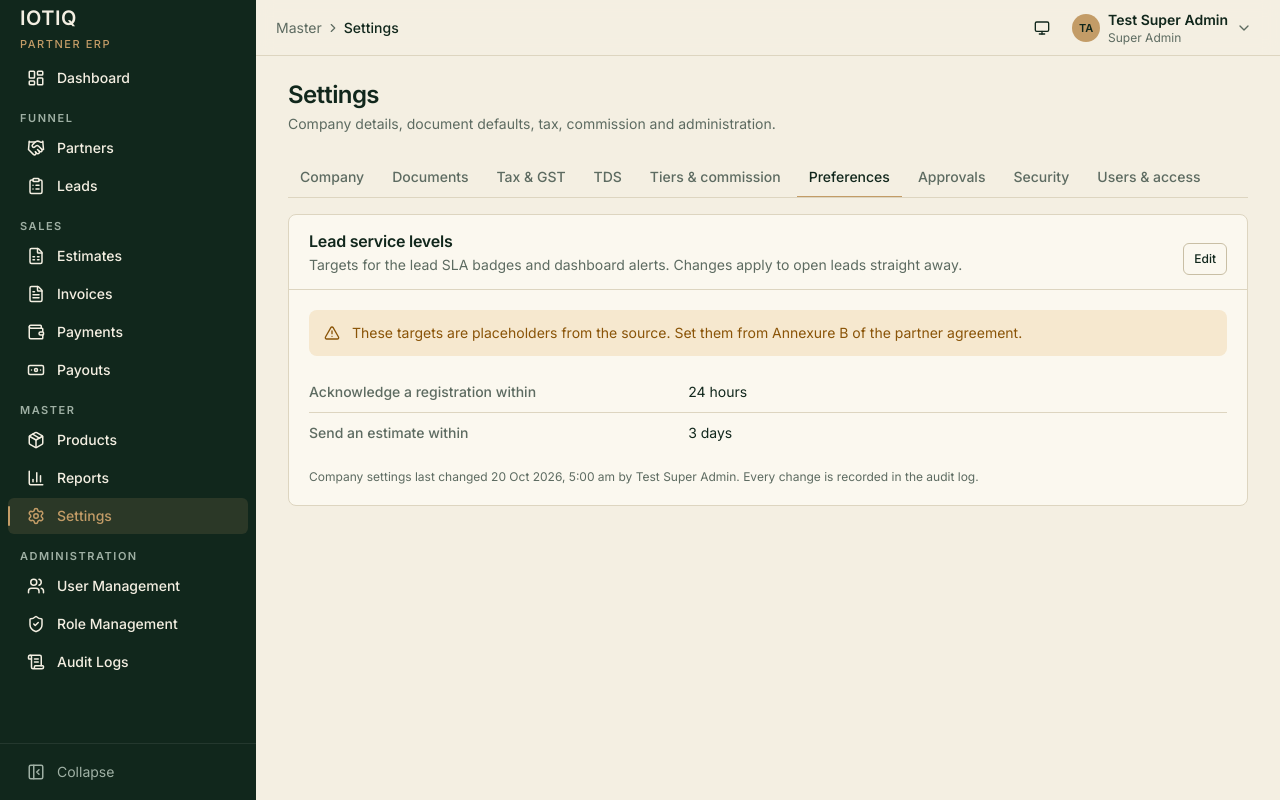
it: settings and administration › explains a concurrent change instead of overwriting it
Click the button with aria-label "Edit lead service levels".
click(1205, 259)  # box 1183,243 -> 1227,275
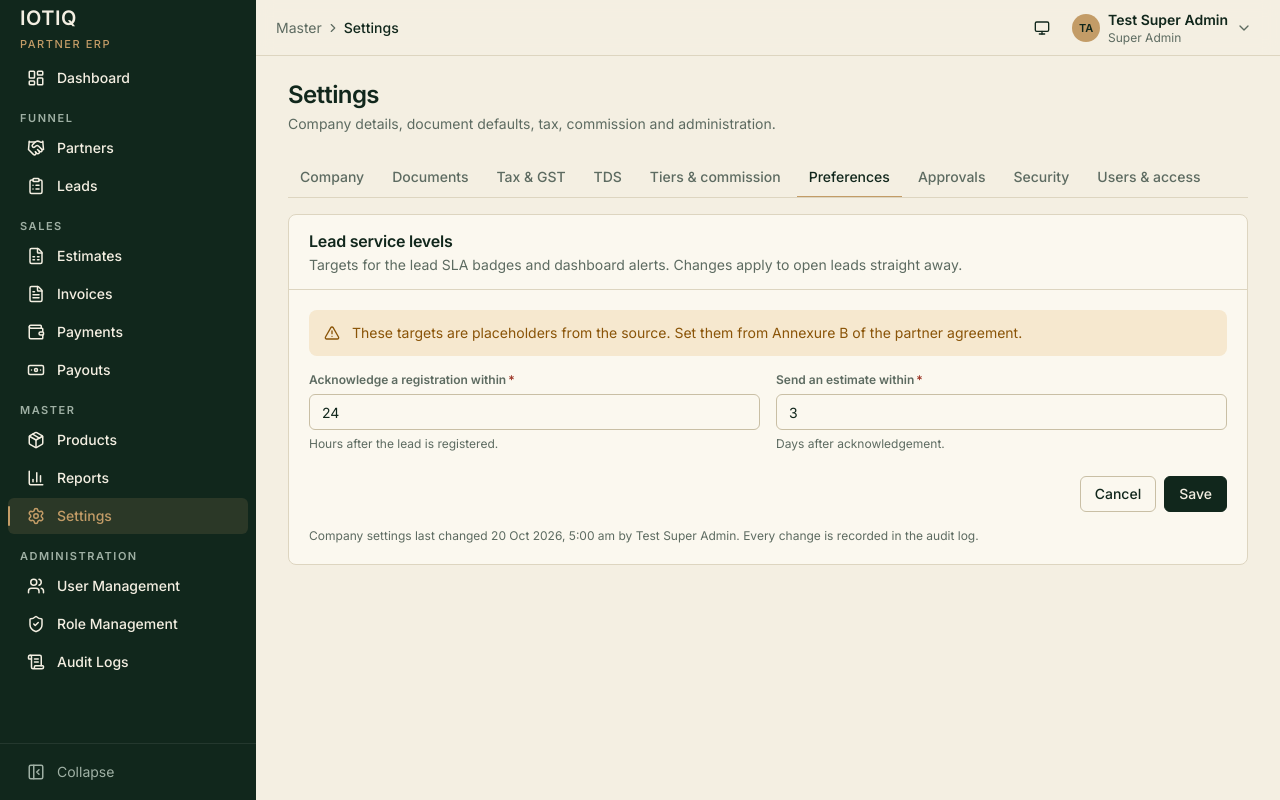
Click the button "Save".
click(1196, 494)  # box 1164,476 -> 1227,512
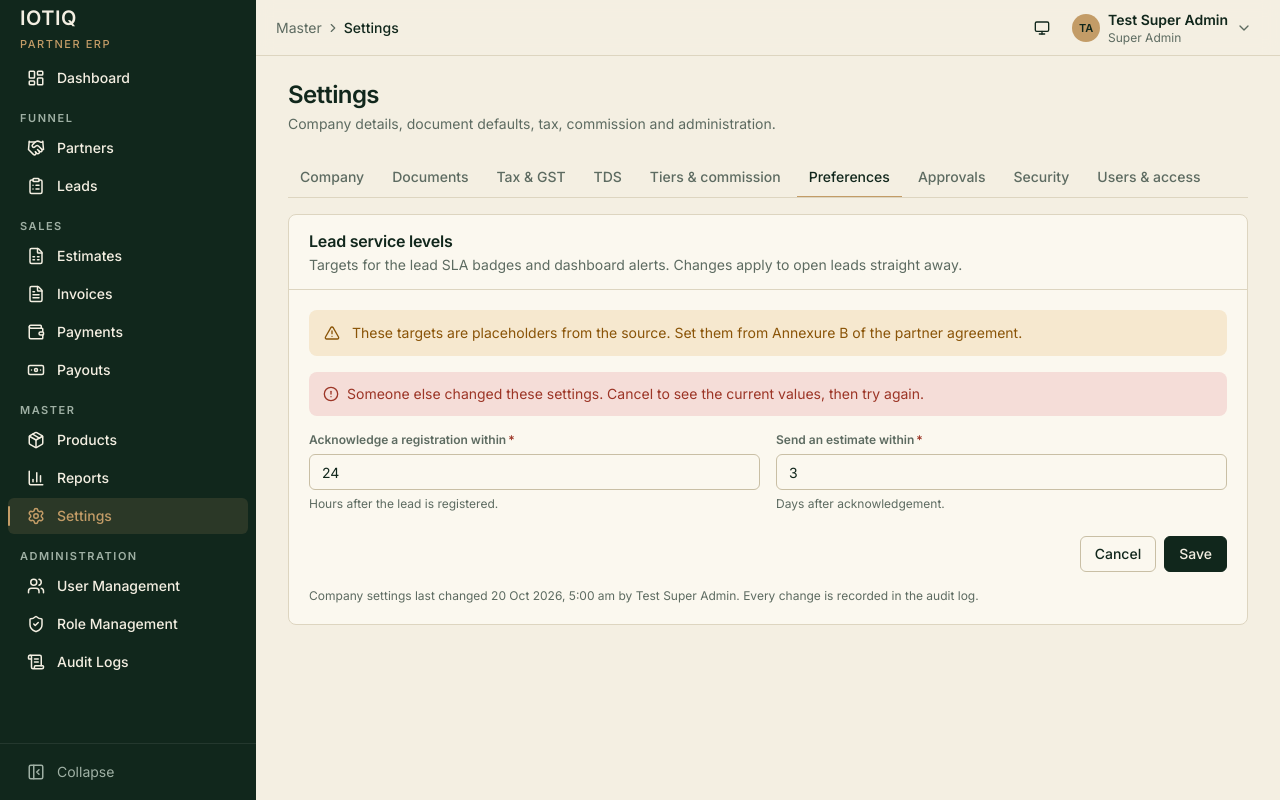
Expected: the text "Someone else changed these settings" is shown, 347,385 -> 924,402
